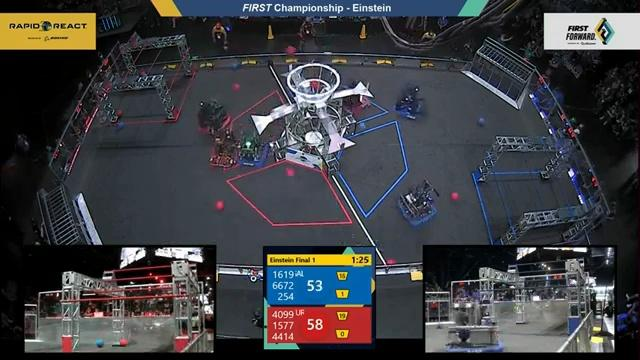robot: (445, 300, 506, 353), (395, 177, 440, 227), (194, 96, 233, 137), (391, 81, 427, 123), (207, 130, 242, 173), (338, 79, 373, 120), (237, 130, 272, 169)
